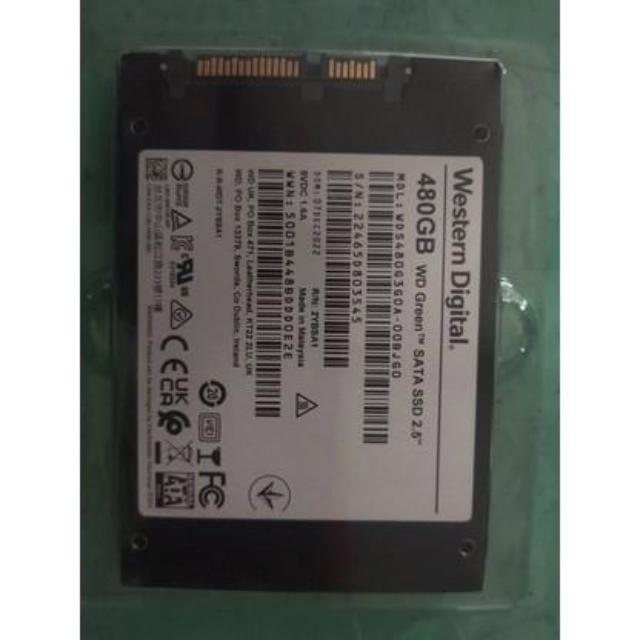DISK: (108, 41, 503, 599)
